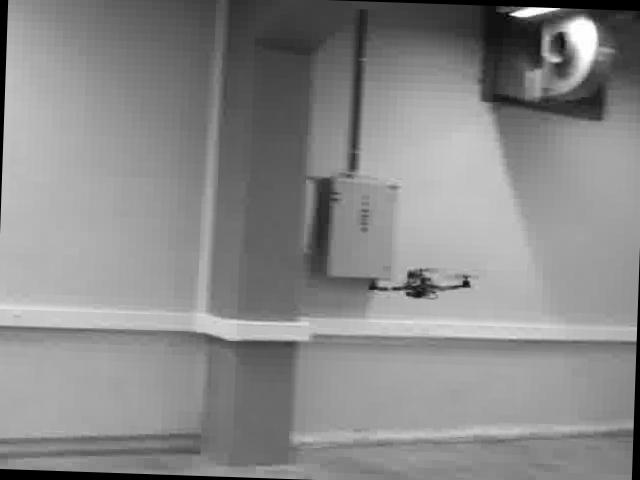drone: (362, 262, 476, 302)
